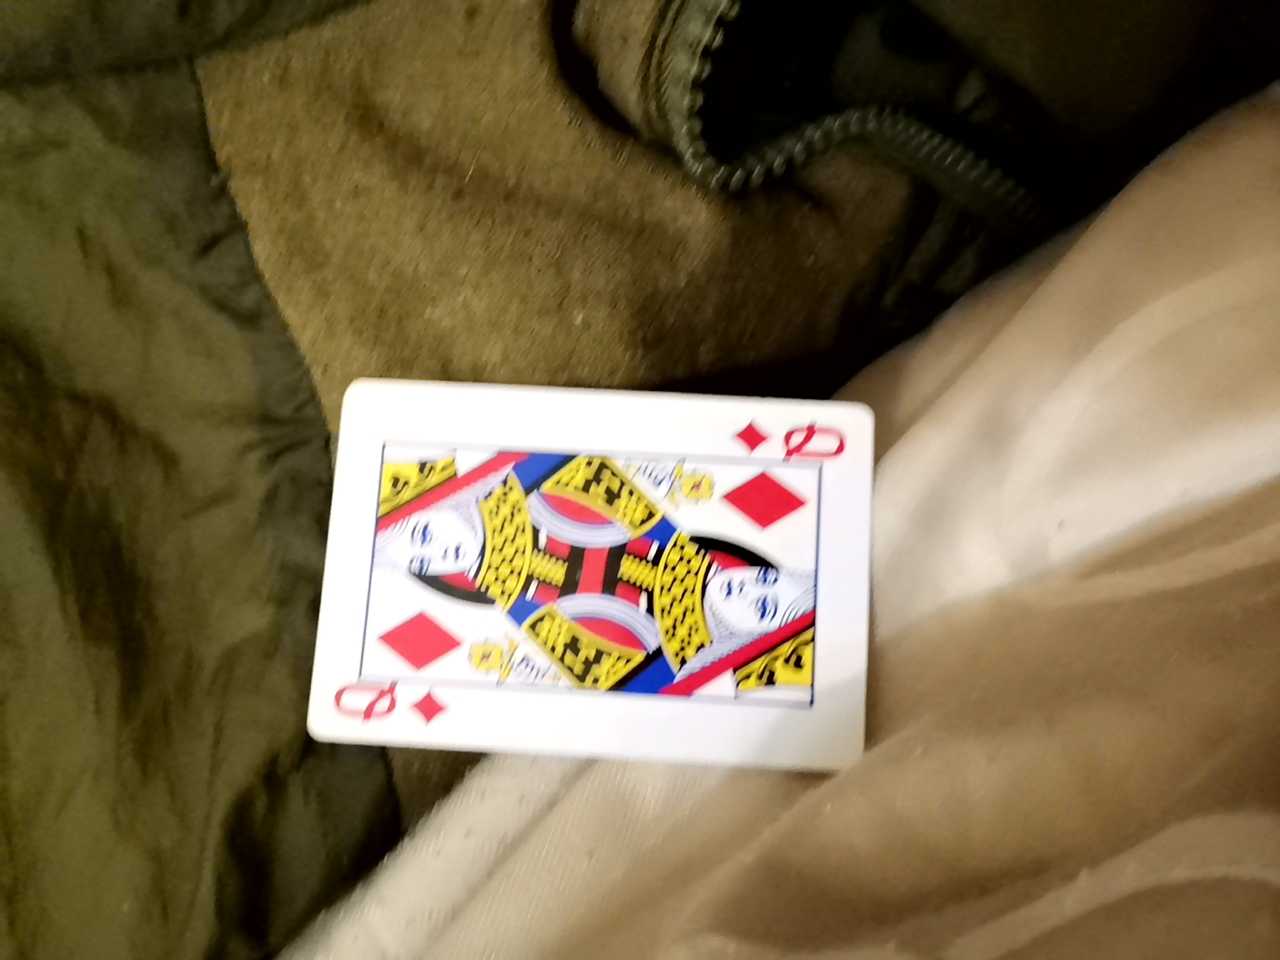fk q: (317, 310, 945, 710)
